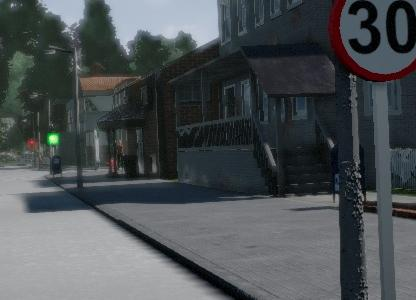Speed_30: (314, 0, 416, 89)
